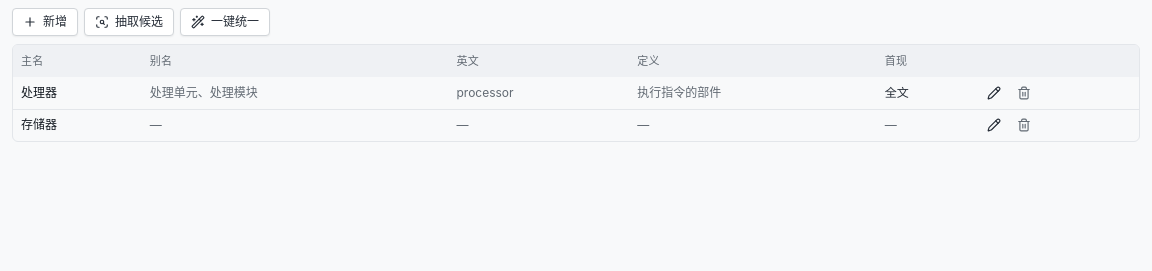
TermsPanel（Rail「术语」；09 §6.3） › 候选抽取 → 采纳进术语表并保存 / 忽略移出
The width and height of the screenshot is (1152, 271).
Step 1. Click the button with test id "terms-extract" → (129, 22), box x1=84 y1=8 x2=174 y2=36
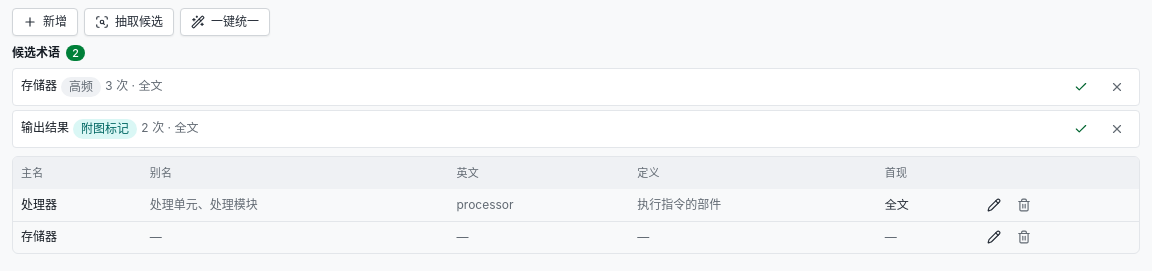
expect the list item with test id "term-candidate" shows "附图标记": met, box x1=81 y1=121 x2=129 y2=136
Step 2. Click the button with test id "term-candidate-dismiss" → (1117, 87), box x1=1103 y1=73 x2=1131 y2=101
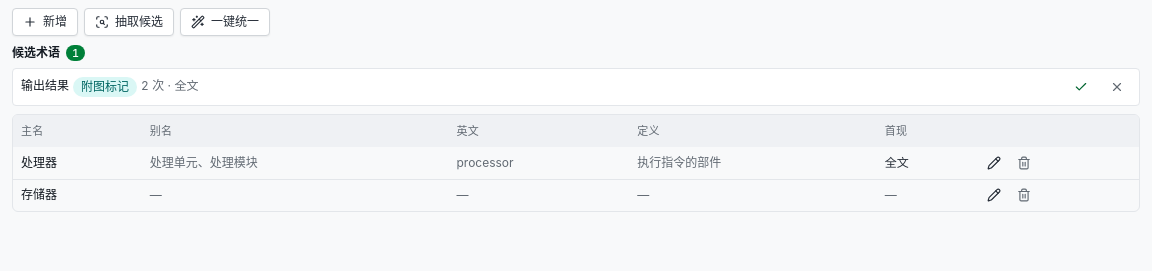
Step 3. Click the button with test id "term-candidate-adopt" → (1081, 87), box x1=1067 y1=73 x2=1095 y2=101
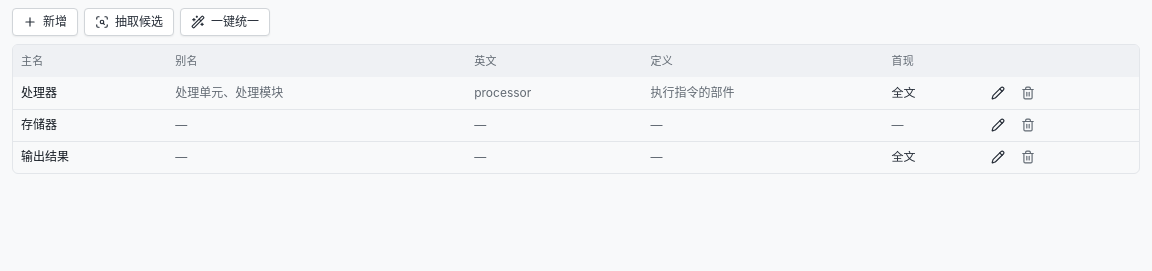
expect the element with test id "term-candidates" is gone: met
